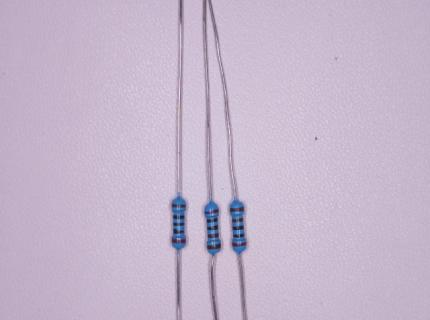Black band: (207, 218, 218, 223), (207, 225, 218, 230), (233, 225, 244, 230), (173, 222, 184, 226), (173, 229, 184, 233), (233, 234, 244, 238), (174, 215, 184, 219)
Brown band: (207, 244, 220, 250), (230, 207, 244, 212), (208, 234, 219, 238), (232, 218, 243, 222), (172, 204, 186, 207)
Red band: (205, 209, 219, 214), (172, 239, 186, 243), (232, 242, 246, 246)
